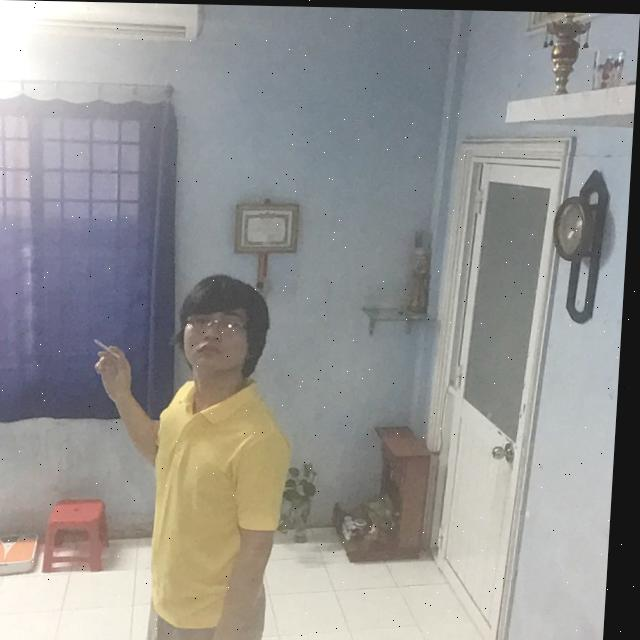cigarette: (97, 337, 126, 357)
